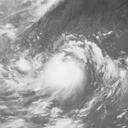cyclone: (46, 58, 85, 95)
